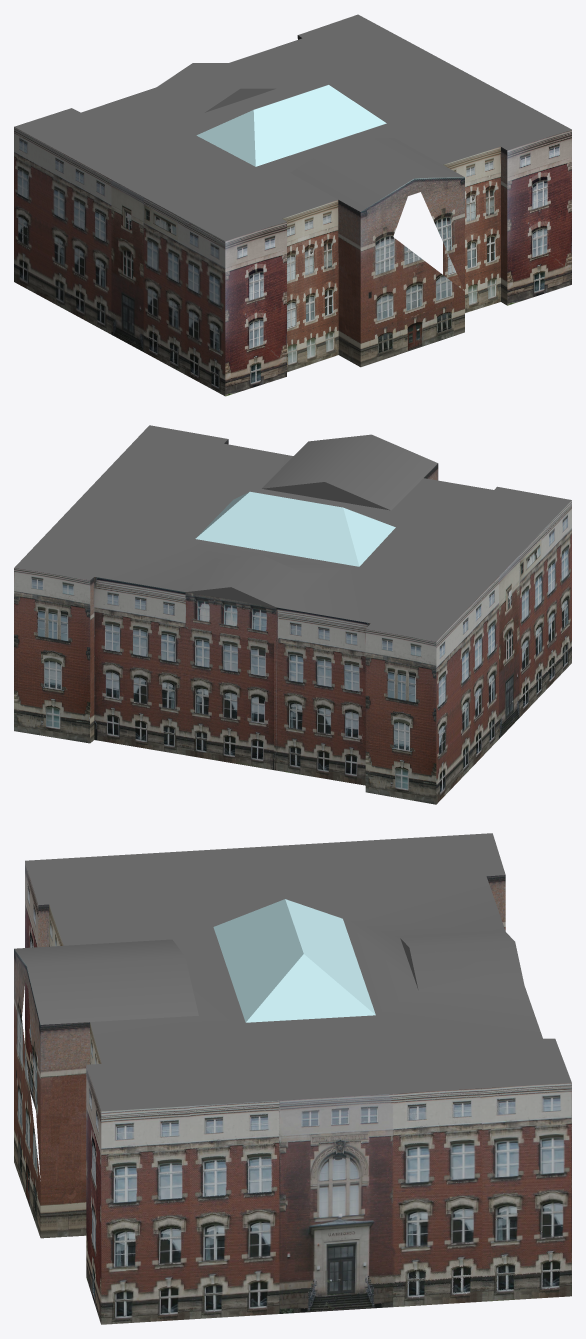
File: Goerges-Bau.gltf
3 views of the same model, one above another, from view 1: azimuth 30°, elevation 25°; view 2: azimuth 150°, elevation 25°; view 3: azimuth 270°, elevation 25° (orthographic). The views are drawn at different scales.
Visible parts, largest first — view 1: Dach.1; view 2: Dach.1; view 3: Dach.1.
Boxes of the visible parts, box(x1,y1,x2,y2) form: Dach.1: box(14, 14, 571, 396); Dach.1: box(14, 425, 571, 804); Dach.1: box(14, 833, 571, 1324).
Size of the model in its own units: 53.21 by 22.95 by 45.04.
11 materials, 9 textured.
